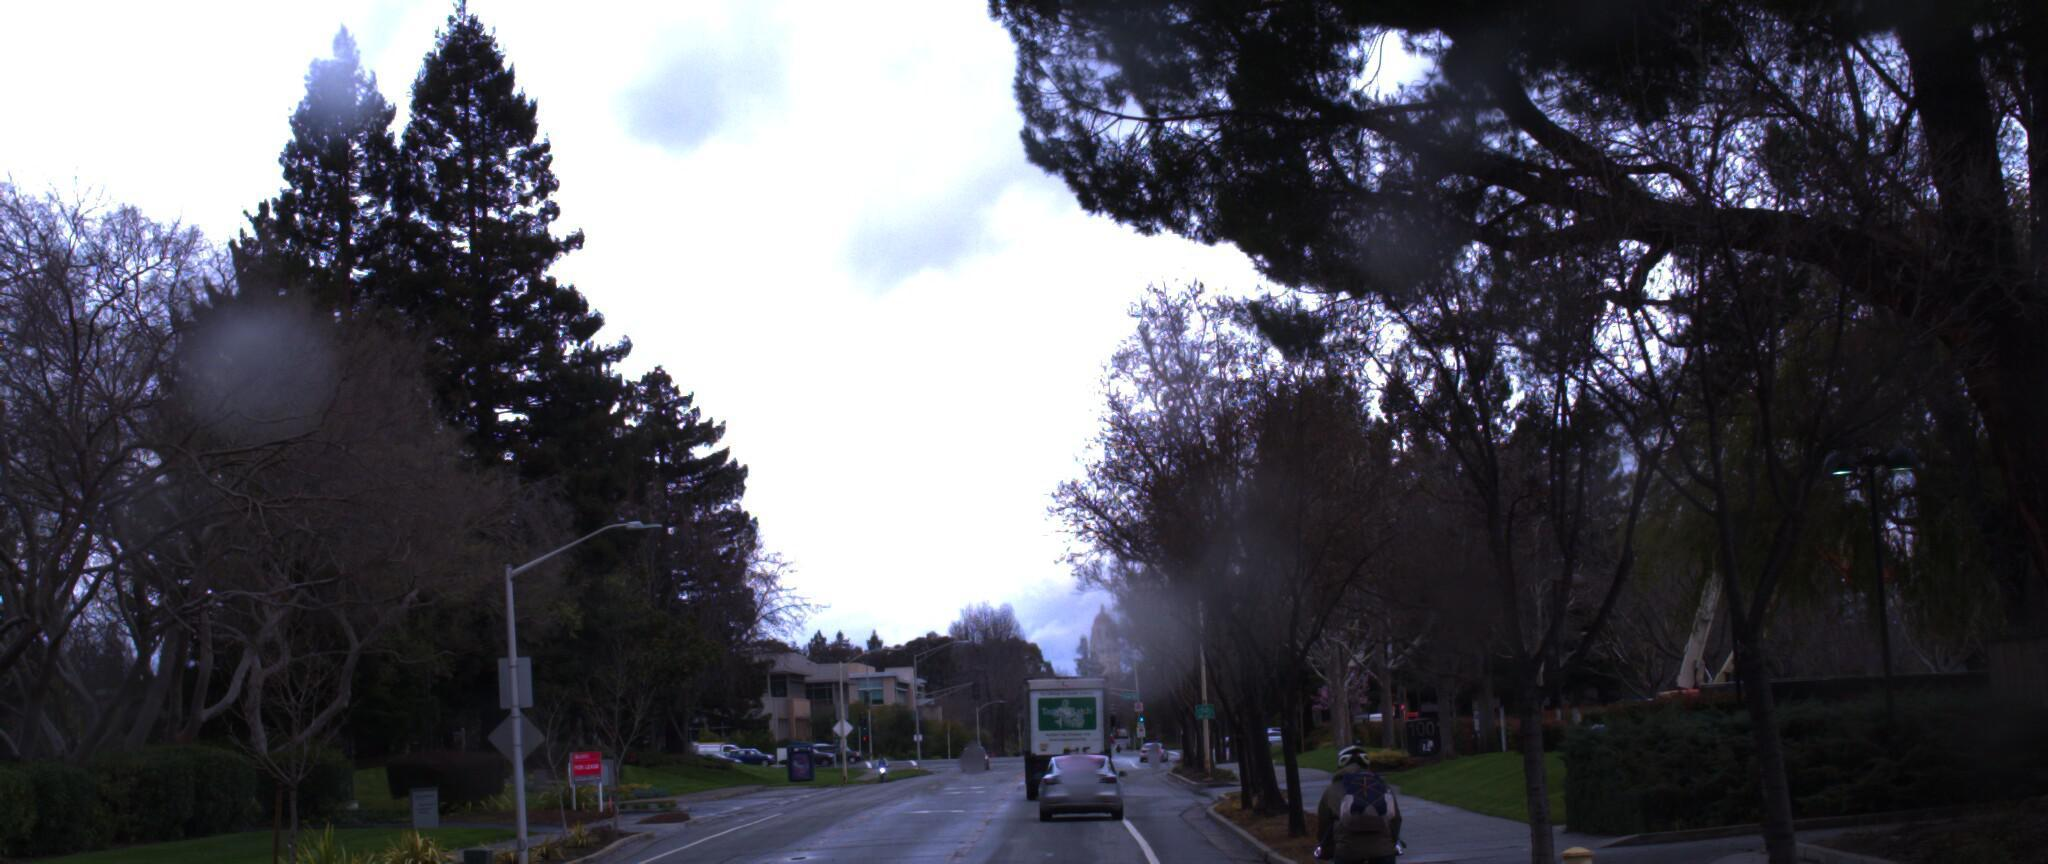bicycle: (1305, 743, 1439, 864)
car: (1048, 760, 1132, 837)
